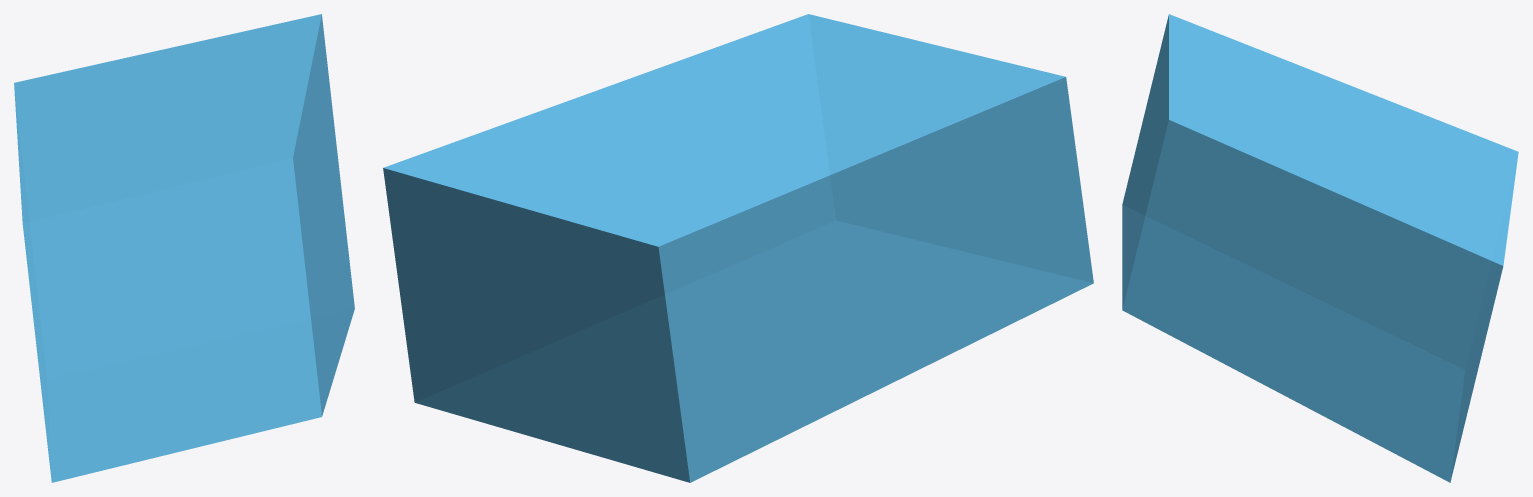
File: Event_421278790_HBrechit_22.fbx
The picture shows the model from 3 angles, left to right: view 1: azimuth 30°, elevation 25°; view 2: azimuth 150°, elevation 25°; view 3: azimuth 270°, elevation 25°; orthographic projection. The views are drawn at different scales.
Visible parts, largest first — view 1: Model; view 2: Model; view 3: Model.
Boxes of the visible parts, x1,y1,x2,y2 form: Model: (14,14,354,482); Model: (383,14,1093,482); Model: (1122,14,1518,482).
Size of the model in its own units: 0.8764 by 0.5635 by 0.7389.
